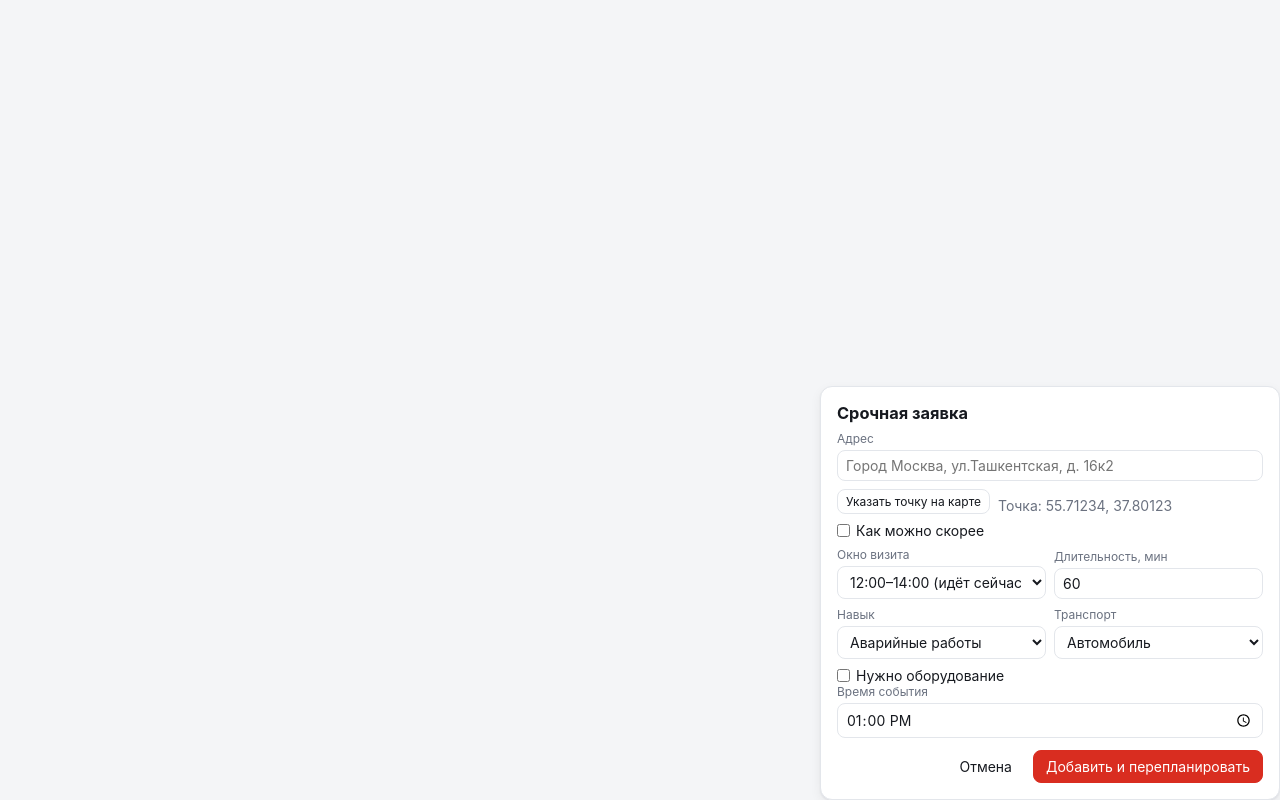
Scenario: UrgentRequestDialog › uses a point picked on the map and starts picking mode
This screenshot has width=1280, height=800.
(page scrolled)
Expected: the text "Точка: 55.71234, 37.80123" is shown, [998,498,1172,514]
Click the button "Указать точку на карте": click(914, 502) [837,490,990,514]
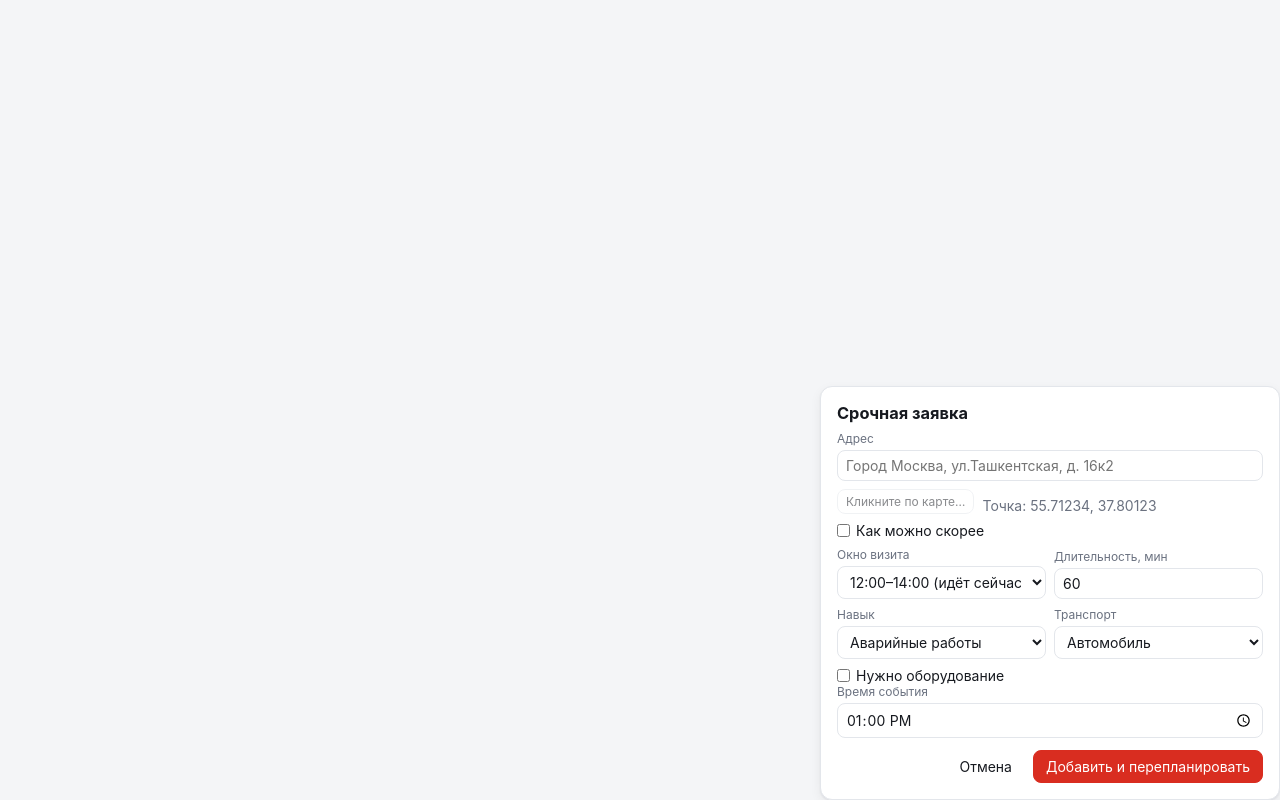
Expected: the button "Кликните по карте…" is disabled, [837,490,974,514]
